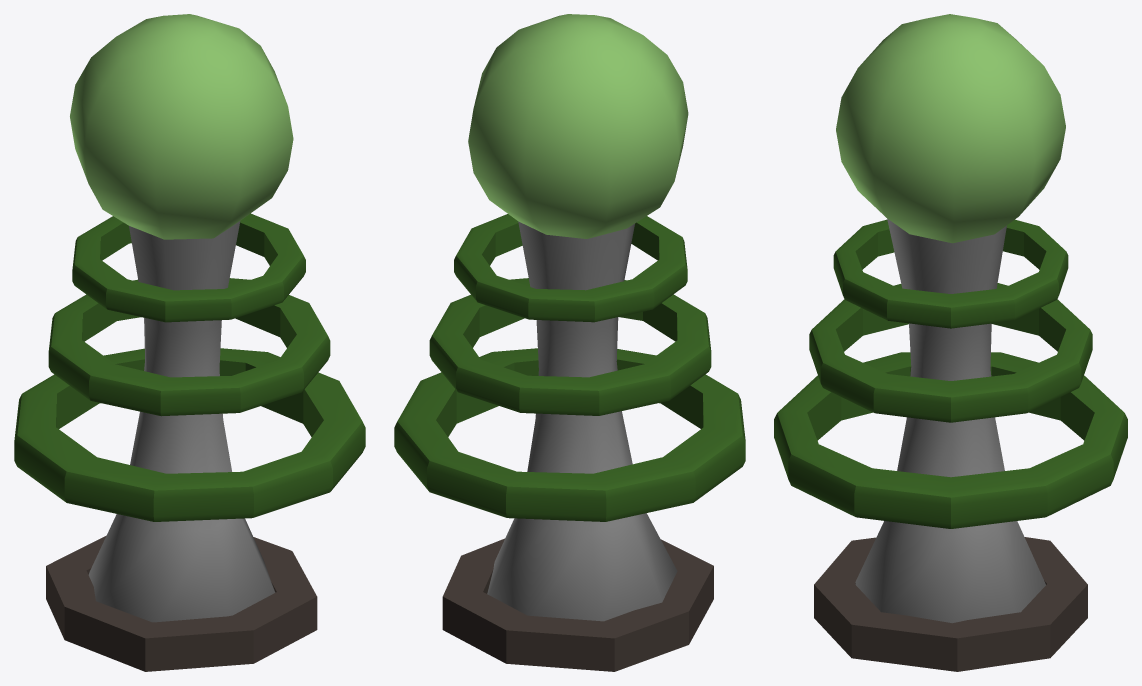
Rendered from Acivate Checkpoint.fbx.
3 views of the same model, side by side, from view 1: azimuth 30°, elevation 25°; view 2: azimuth 150°, elevation 25°; view 3: azimuth 270°, elevation 25° (orthographic).
Visible parts, largest first — view 1: head, body, ring_one2, base, ring_one1, ring_one; view 2: head, body, ring_one2, base, ring_one1, ring_one; view 3: head, body, ring_one2, base, ring_one1, ring_one.
Part boxes in pixels (<box>): head: <box>70,14,293,239</box>; body: <box>88,221,275,622</box>; ring_one2: <box>14,348,365,521</box>; base: <box>46,536,317,671</box>; ring_one1: <box>48,278,330,416</box>; ring_one: <box>72,213,305,322</box>; head: <box>468,14,688,238</box>; body: <box>487,221,677,621</box>; ring_one2: <box>394,348,745,521</box>; base: <box>442,538,713,671</box>; ring_one1: <box>429,278,711,415</box>; ring_one: <box>454,214,687,322</box>; head: <box>836,14,1065,243</box>; body: <box>855,218,1045,623</box>; ring_one2: <box>774,352,1127,528</box>; base: <box>814,537,1087,671</box>; ring_one1: <box>809,283,1092,422</box>; ring_one: <box>833,219,1068,328</box>.
Bounding box in the file's own units: 5.03 × 9.38 × 5.08.
